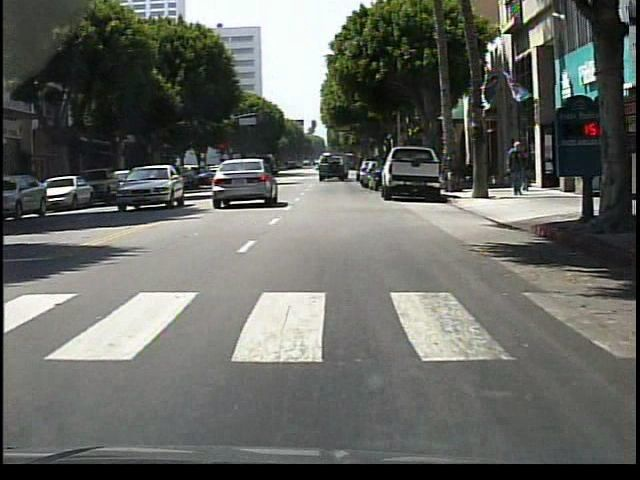person: (508, 141, 529, 199), (519, 147, 535, 194), (222, 158, 235, 202)
